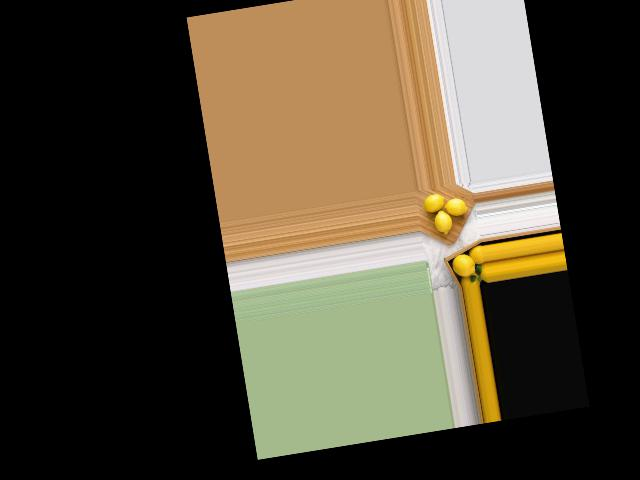lemon: (418, 190, 447, 219)
